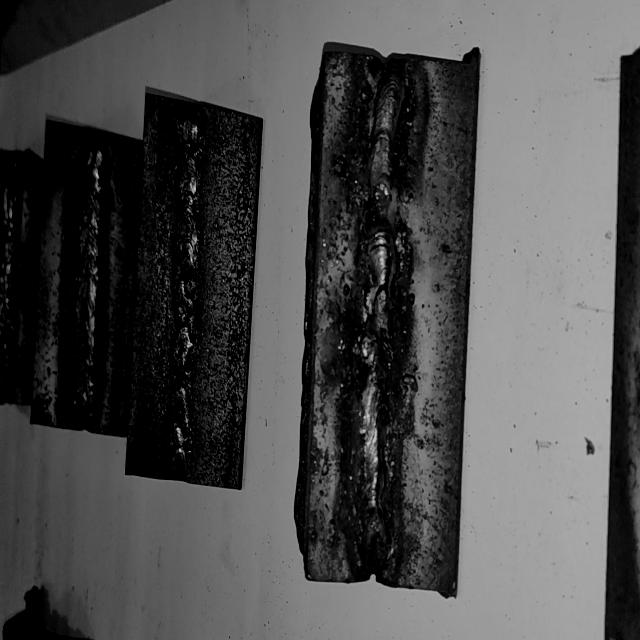Bad Weld: (360, 65, 408, 570), (169, 112, 201, 473)
Defect: (166, 123, 202, 472), (358, 139, 410, 273), (355, 296, 398, 421)
Good Weld: (73, 141, 102, 423), (0, 158, 20, 401)
